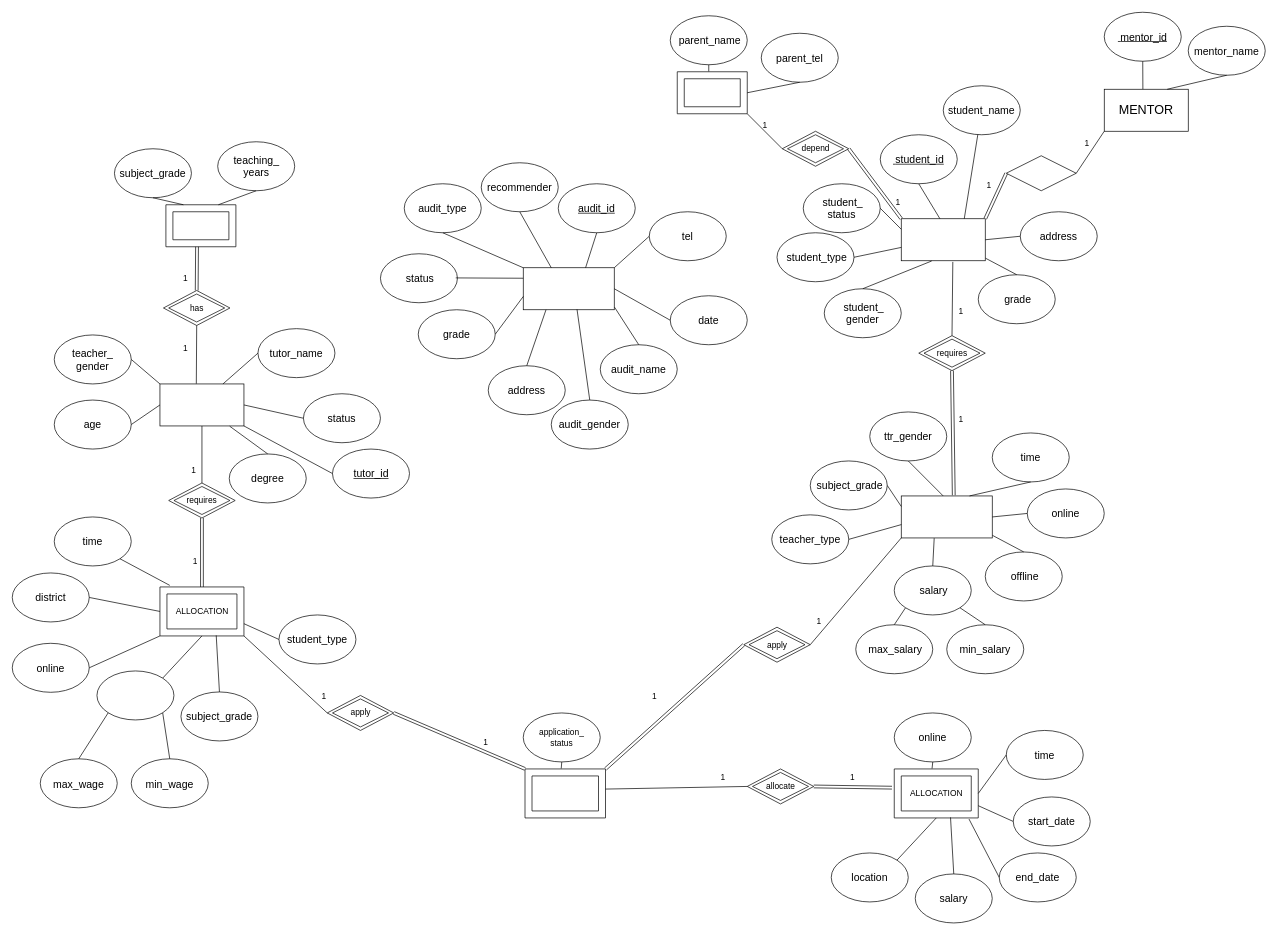
Image size: 1278x935. Some labels were removed from this diagram. Here are the shapes that lost their labels. From the top down, the centre of each, then its label:
the point at 712,92: PARENT
the point at 1041,173: Have
the point at 200,225: teacing_ experience
the point at 943,239: STUDENT
the point at 568,288: AUDIT
the point at 201,404: TUTOR
the point at 946,516: STUDENT_ REQUIREMENT
the point at 135,695: wage
the point at 565,793: APPLICATION
